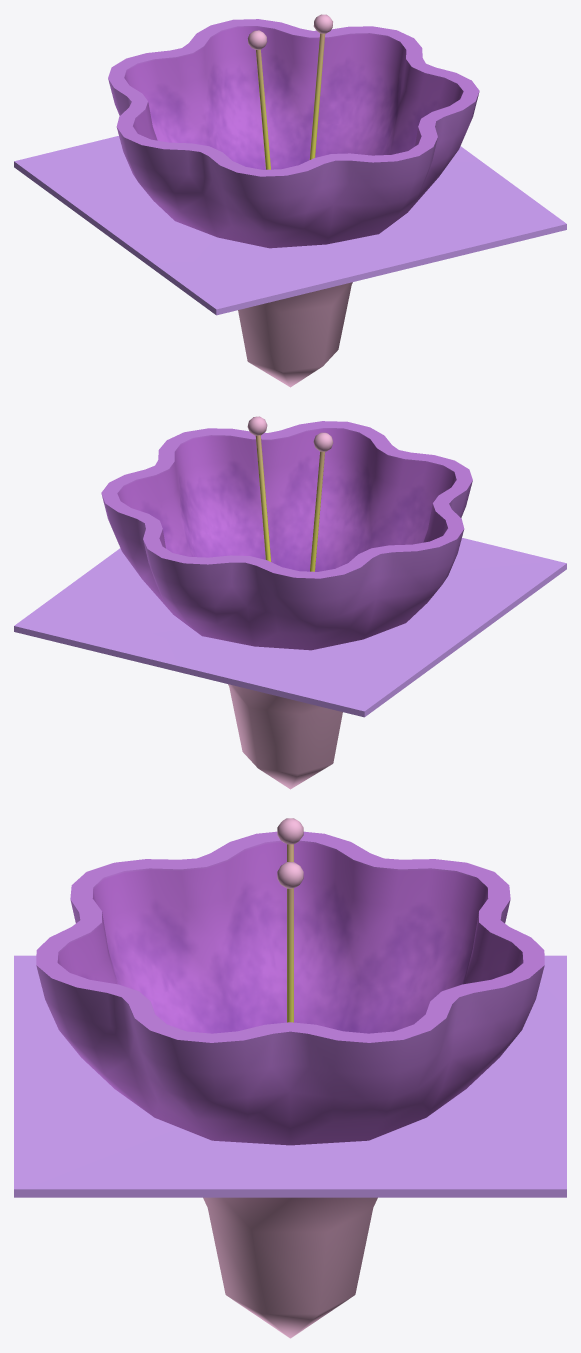
Rendered from flowerBush.fbx.
3 renders of one model, top to bottom at view 1: azimuth 30°, elevation 25°; view 2: azimuth 150°, elevation 25°; view 3: azimuth 270°, elevation 25°, orthographic. The views are drawn at different scales.
Visible parts, largest first — view 1: flowerBush; view 2: flowerBush; view 3: flowerBush.
Boxes of the visible parts, bbox=[...] form: flowerBush: bbox=[14, 14, 566, 387]; flowerBush: bbox=[14, 416, 566, 789]; flowerBush: bbox=[14, 818, 566, 1338].
Size of the model in its own units: 17.2 by 17.08 by 17.2.
1 material, 1 textured.
